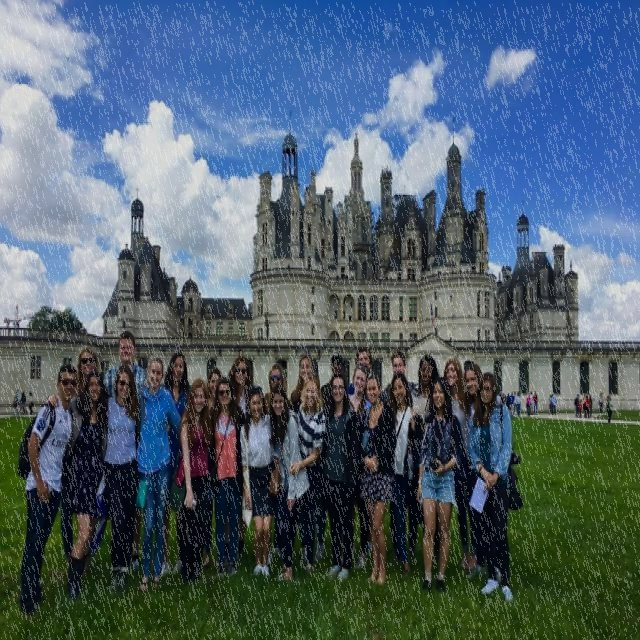pessoa: (13, 361, 84, 616), (44, 368, 108, 600), (465, 368, 526, 606), (414, 372, 468, 599), (135, 353, 183, 594), (204, 374, 252, 582), (167, 376, 214, 586), (102, 362, 144, 596), (319, 370, 363, 584), (355, 374, 398, 588), (463, 362, 504, 578), (286, 371, 328, 578), (268, 382, 311, 583), (238, 383, 278, 583), (442, 355, 477, 572), (158, 348, 191, 578), (405, 352, 440, 560), (224, 353, 254, 566), (388, 372, 418, 580), (263, 361, 291, 567), (346, 361, 373, 572), (202, 364, 224, 574), (102, 330, 148, 400), (318, 352, 356, 416), (378, 348, 418, 406), (68, 346, 100, 404), (289, 352, 315, 414), (345, 344, 374, 399), (3, 317, 23, 339), (506, 388, 516, 418), (580, 393, 592, 418), (11, 386, 20, 416), (18, 388, 28, 415), (524, 392, 534, 419), (514, 390, 522, 418), (27, 389, 35, 416), (597, 390, 605, 416), (580, 392, 588, 418), (573, 393, 581, 418), (546, 391, 554, 415), (550, 391, 558, 415), (604, 391, 612, 415), (528, 388, 534, 415), (532, 390, 538, 416), (588, 393, 593, 420), (578, 398, 584, 418), (514, 390, 518, 416), (505, 392, 510, 411), (518, 393, 522, 413), (24, 407, 28, 415), (23, 390, 26, 394)
